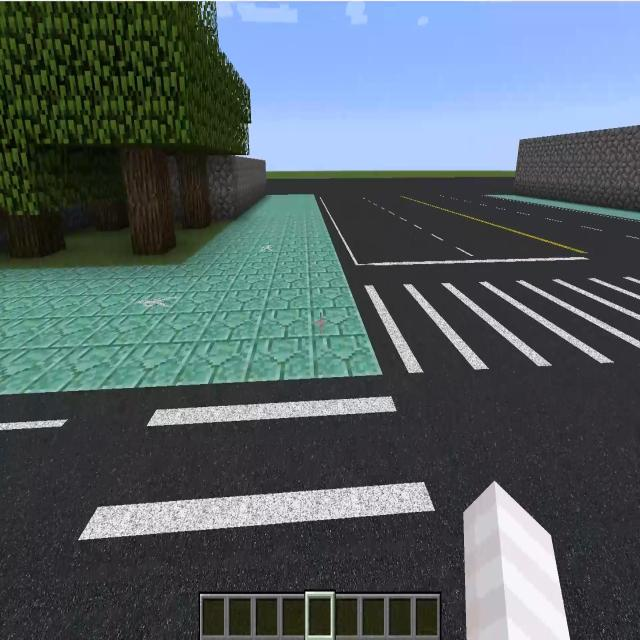crosswalk: (34, 378, 466, 632), (351, 262, 640, 379)
road: (400, 374, 635, 634), (268, 171, 636, 265), (1, 390, 145, 629)
sidewalk: (0, 194, 381, 395), (488, 195, 640, 221)
